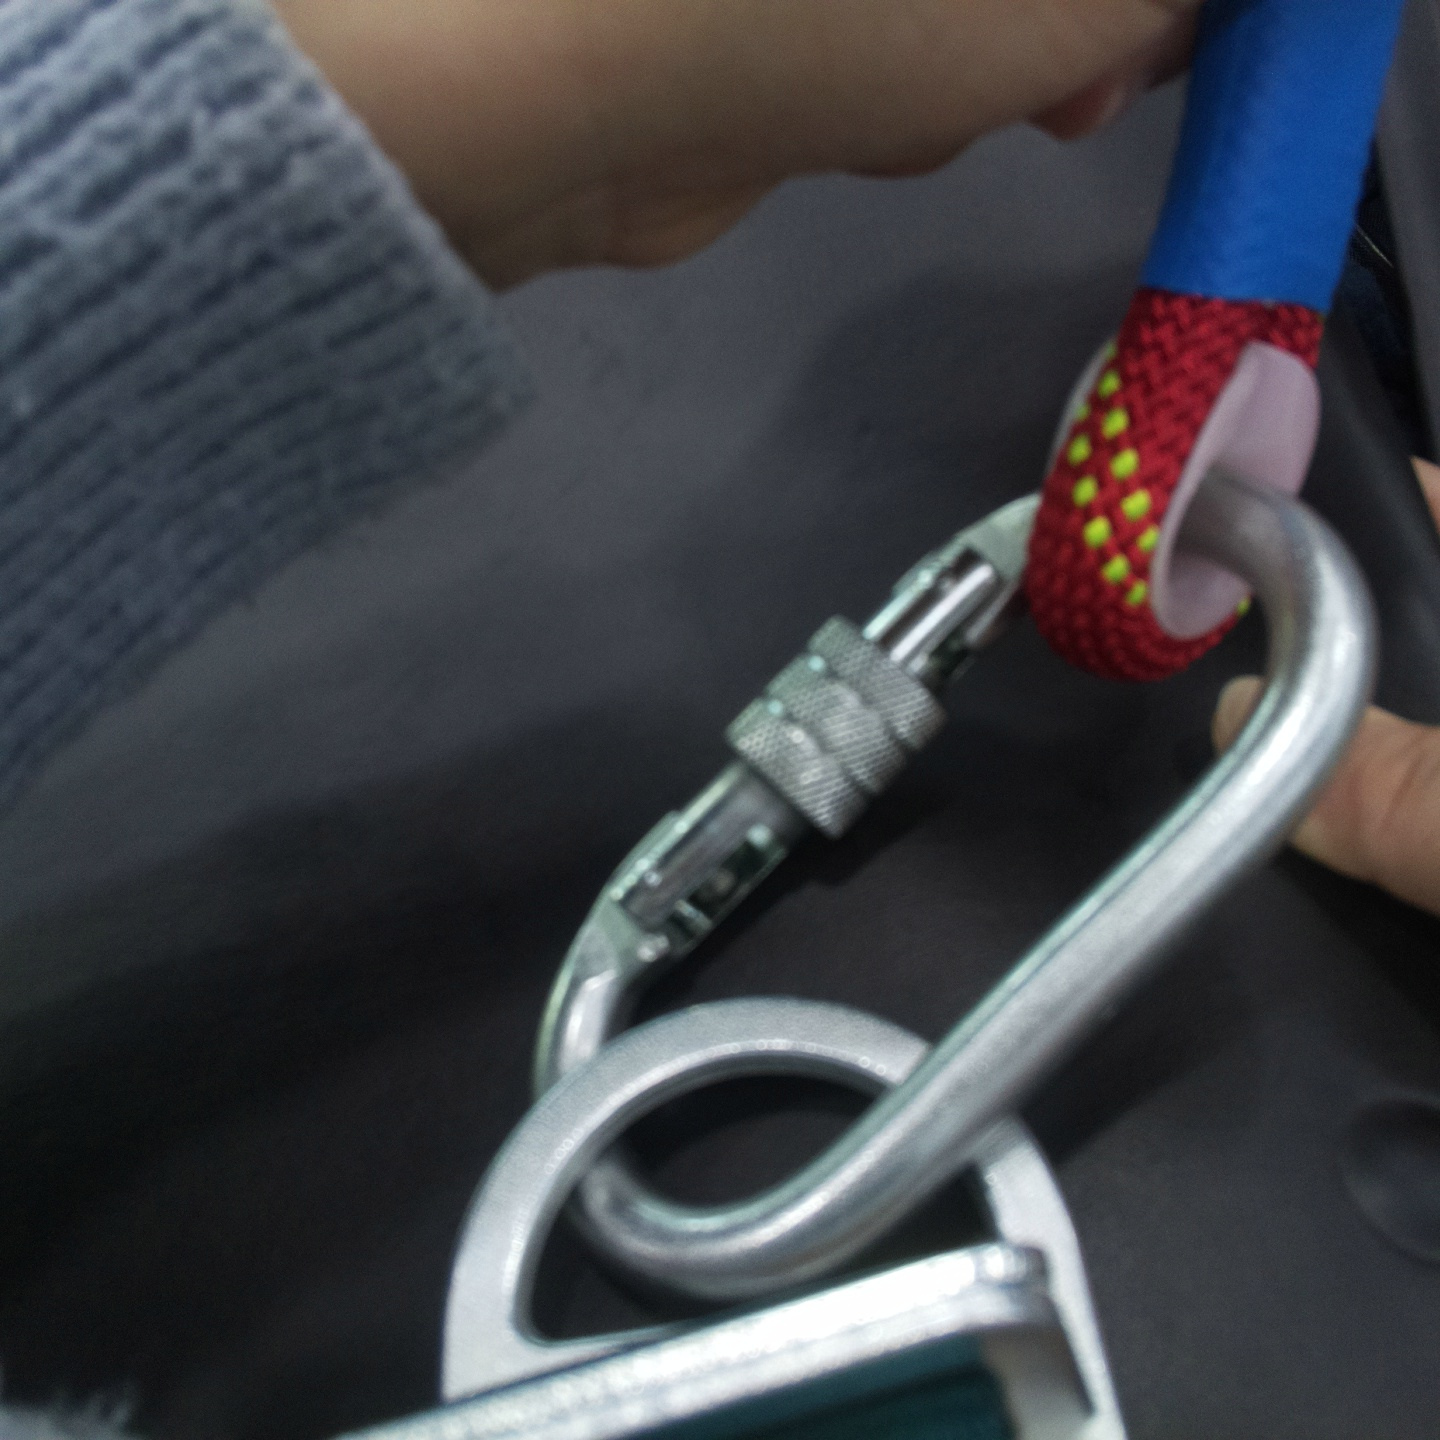SUCCESS: (418, 713, 1121, 1390)
